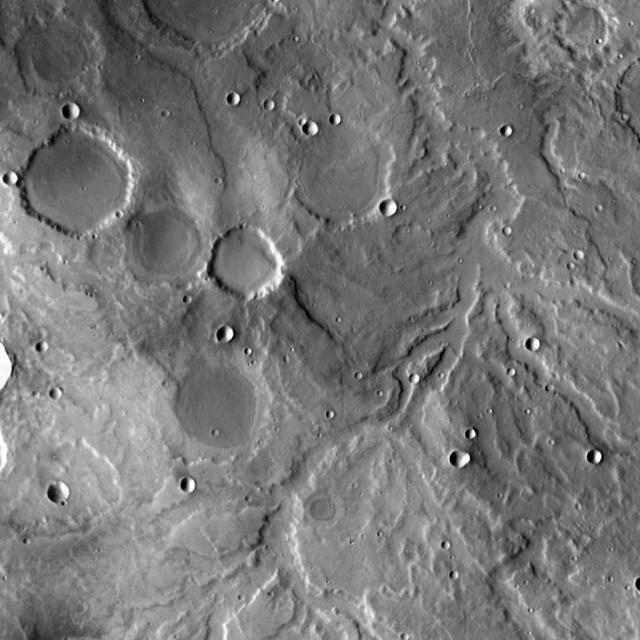crater: (163, 349, 283, 468), (28, 126, 140, 238), (300, 122, 404, 225), (23, 16, 108, 101), (133, 205, 218, 289), (217, 227, 292, 301), (562, 0, 622, 56), (54, 482, 76, 504), (458, 452, 476, 470), (388, 200, 406, 218), (224, 325, 242, 343), (10, 169, 27, 186), (70, 104, 87, 120), (188, 476, 204, 492), (594, 449, 610, 464), (311, 122, 326, 137), (44, 339, 58, 353), (534, 339, 548, 353), (234, 91, 248, 105), (58, 386, 70, 398), (508, 127, 520, 139), (337, 114, 349, 125), (474, 430, 484, 440), (273, 101, 283, 111), (418, 375, 428, 384), (458, 572, 468, 580), (512, 226, 520, 235), (583, 252, 591, 260), (602, 199, 610, 207), (2, 316, 10, 324), (554, 384, 562, 392), (168, 108, 176, 116), (218, 427, 226, 435), (301, 112, 308, 120), (451, 542, 458, 550), (116, 203, 124, 210), (23, 530, 30, 538), (184, 289, 191, 296), (328, 406, 335, 413), (215, 169, 222, 176), (245, 341, 252, 348), (40, 390, 47, 397), (409, 634, 417, 640), (356, 366, 363, 372), (580, 165, 586, 172), (568, 255, 574, 262), (576, 496, 582, 503), (245, 488, 252, 494), (526, 402, 532, 408), (238, 588, 244, 594), (378, 384, 383, 389)
